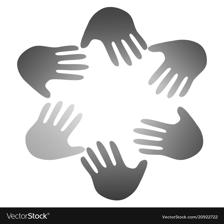Hand: (51, 42, 195, 185)
